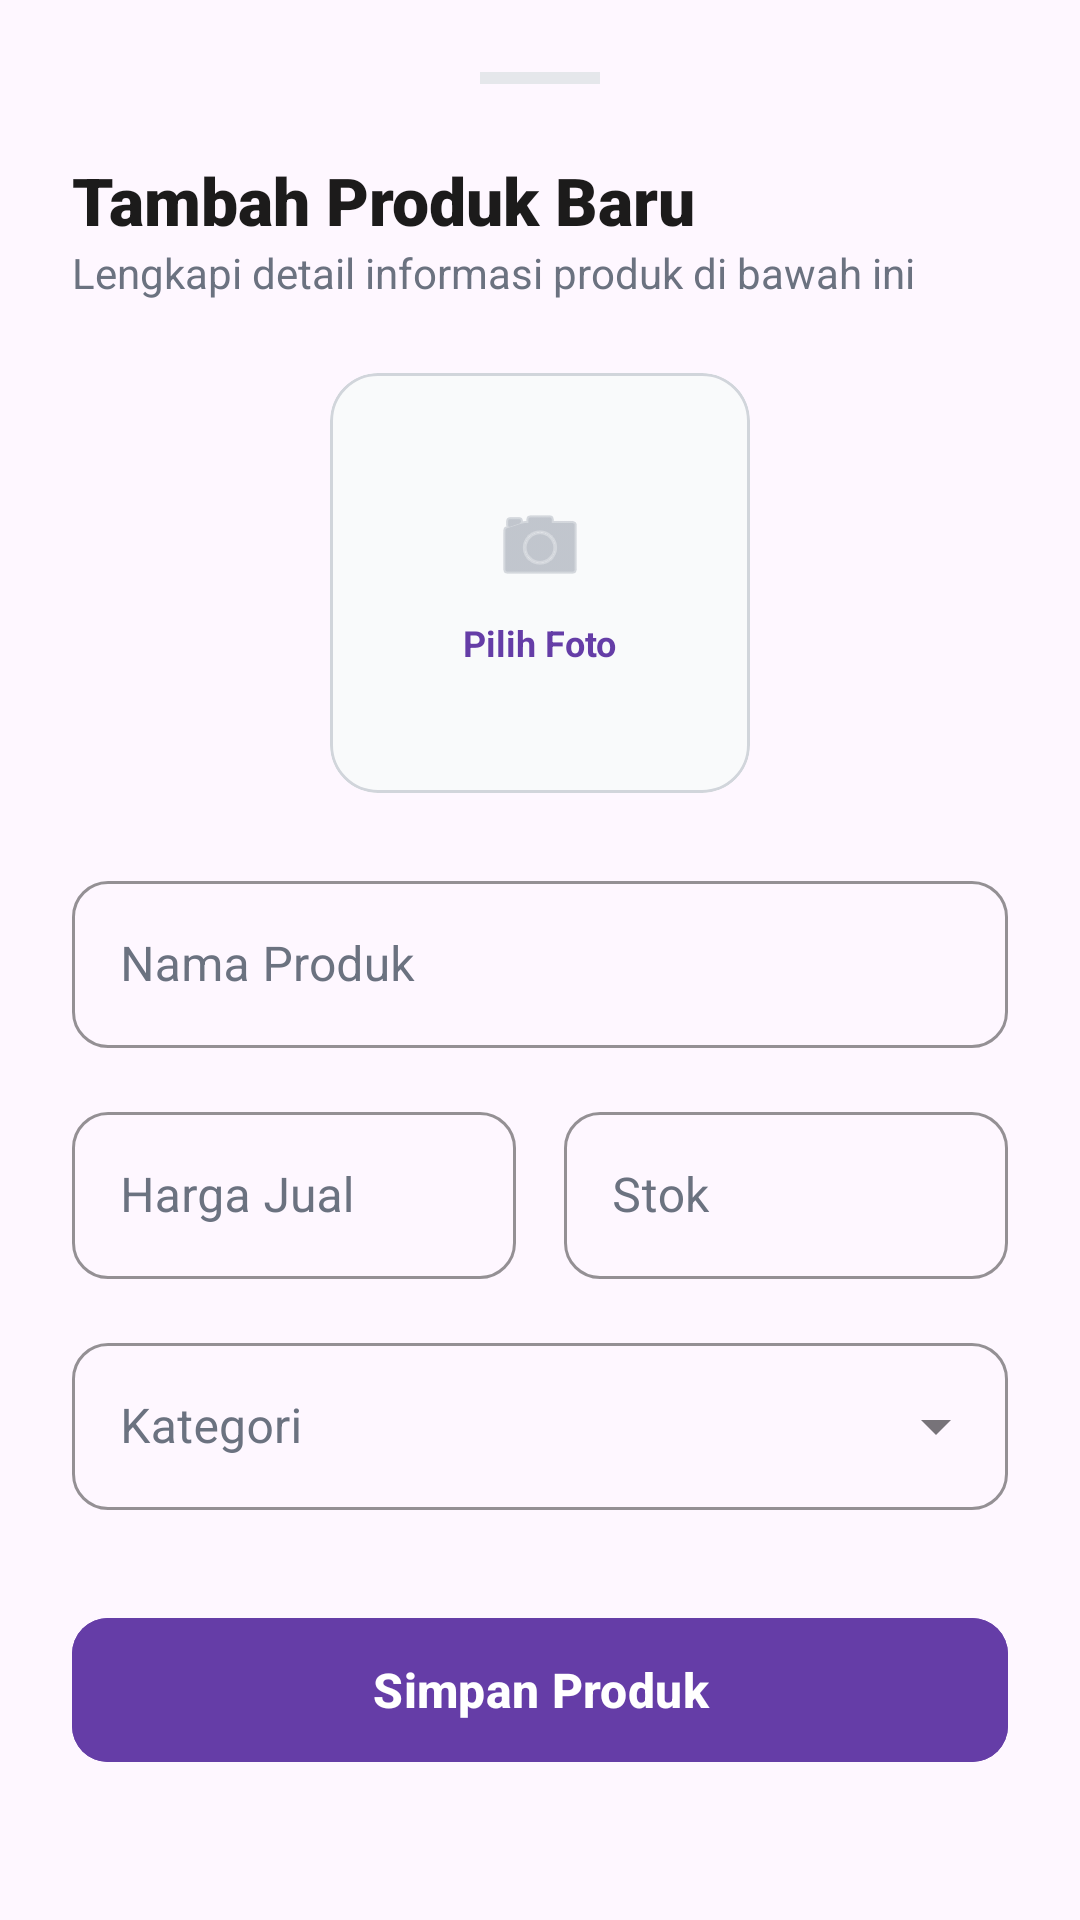

Named icons in this screenshot (1080*1920) and their centers, point (x, y):
camera: point (540, 544)
